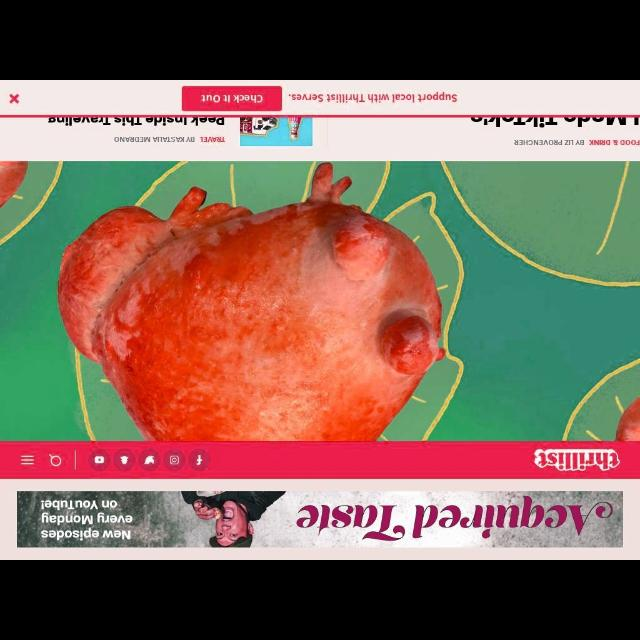button: (112, 446, 136, 472), (138, 448, 160, 472), (88, 448, 110, 472), (188, 450, 210, 472), (162, 450, 184, 472)
icon: (46, 450, 62, 468), (20, 454, 36, 470), (9, 91, 21, 107), (169, 454, 183, 466), (95, 454, 105, 466), (143, 456, 155, 466), (196, 457, 204, 468), (120, 457, 130, 465)
iframe: (17, 492, 623, 548)
image: (1, 163, 639, 441), (533, 445, 623, 473), (240, 119, 312, 148)
text: (287, 88, 457, 105), (113, 136, 225, 146), (200, 93, 264, 105), (513, 140, 639, 146)
textbutton: (180, 86, 280, 112)
toolbar: (1, 442, 638, 478)
